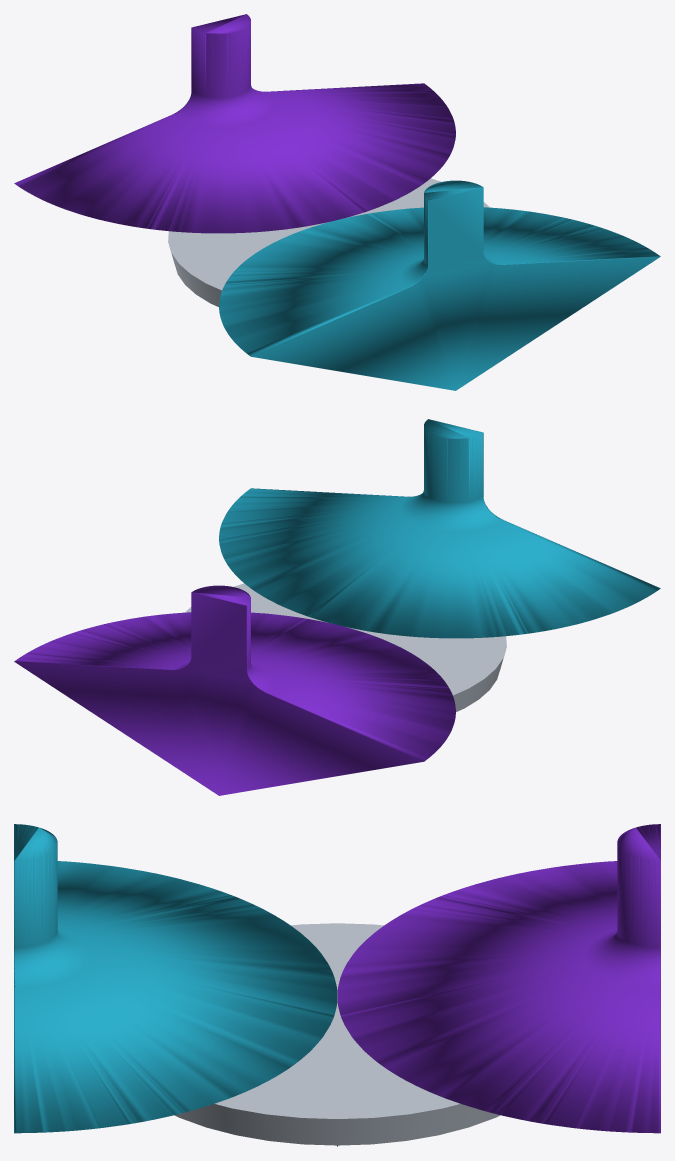
Rendered from serpent.glb.
The picture shows the model from 3 angles, top to bottom: view 1: azimuth 30°, elevation 25°; view 2: azimuth 150°, elevation 25°; view 3: azimuth 270°, elevation 25°; orthographic projection. The views are drawn at different scales.
Visible parts, largest first — view 1: Spinner_Half_A, Spinner_Half_B, Bey_Disc; view 2: Spinner_Half_B, Spinner_Half_A, Bey_Disc; view 3: Spinner_Half_A, Spinner_Half_B, Bey_Disc.
Part boxes in pixels (x1,y1,x2,y2): Spinner_Half_A: (219, 180, 660, 390); Spinner_Half_B: (14, 14, 455, 233); Bey_Disc: (168, 178, 489, 306); Spinner_Half_B: (14, 585, 455, 795); Spinner_Half_A: (219, 419, 660, 638); Bey_Disc: (185, 583, 506, 711); Spinner_Half_A: (14, 824, 337, 1133); Spinner_Half_B: (337, 824, 660, 1133); Bey_Disc: (174, 923, 500, 1145).
Size of the model in its own units: 7.4 by 3.84 by 7.4.
